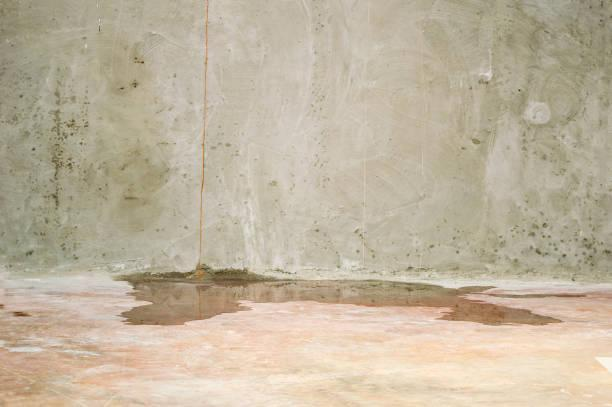water accumulation: (116, 264, 586, 327)
